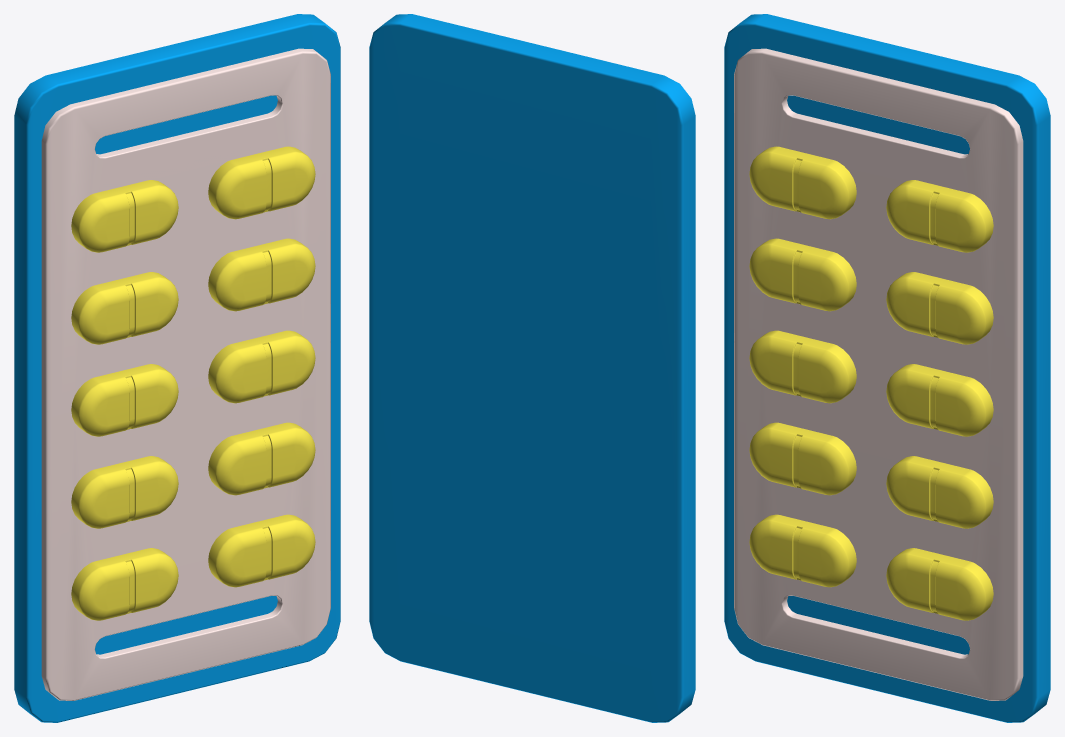
The model's file is Public_3_Pill_Pack_1.glb.
3 views of the same model, side by side, from view 1: azimuth 30°, elevation 25°; view 2: azimuth 150°, elevation 25°; view 3: azimuth 330°, elevation 25° (orthographic).
Parts seen in each view (by area): view 1: Public_3_Pill_Pack_1; view 2: Public_3_Pill_Pack_1; view 3: Public_3_Pill_Pack_1.
Part boxes in pixels (bbox=[...]): Public_3_Pill_Pack_1: bbox=[14, 14, 340, 722]; Public_3_Pill_Pack_1: bbox=[369, 14, 695, 722]; Public_3_Pill_Pack_1: bbox=[724, 14, 1050, 722].
Size of the model in its own units: 1.66 by 3.21 by 0.2795.
Materials: 1 (1 with a texture image).
